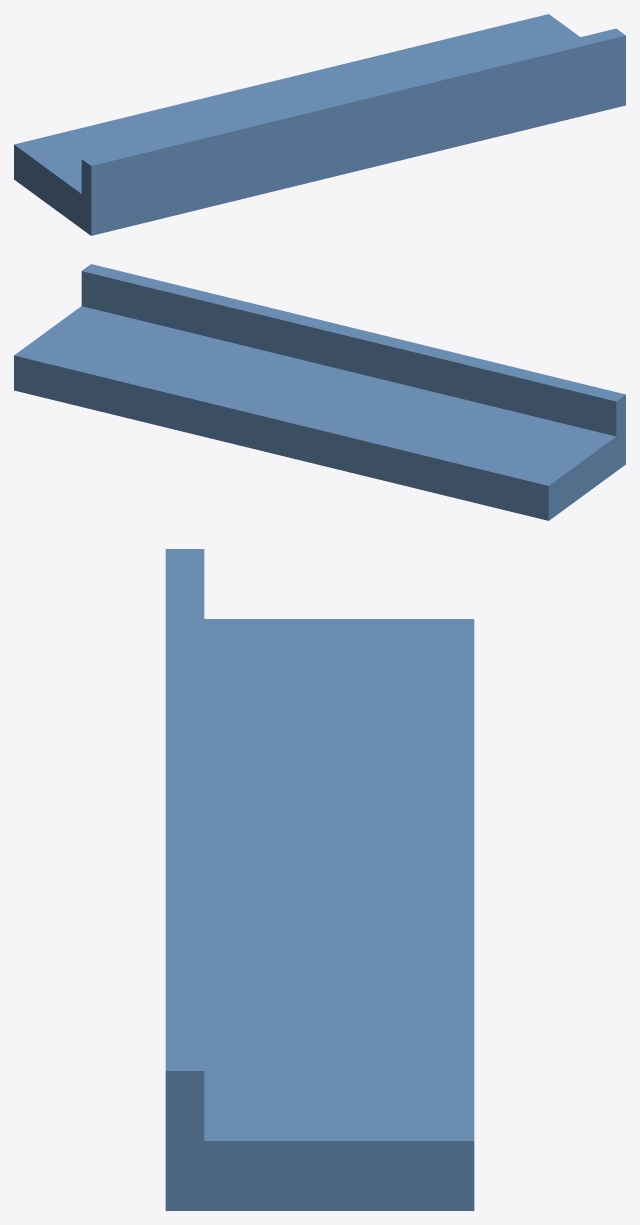
Rendered from kit_shop_awning.glb.
3 renders of one model, top to bottom at view 1: azimuth 30°, elevation 25°; view 2: azimuth 150°, elevation 25°; view 3: azimuth 270°, elevation 25°, orthographic. The views are drawn at different scales.
Visible parts, largest first — view 1: kit_shop_awning-col; view 2: kit_shop_awning-col; view 3: kit_shop_awning-col.
Boxes of the visible parts, box(x1,y1,x2,y2) form: kit_shop_awning-col: box(14, 14, 625, 235); kit_shop_awning-col: box(14, 264, 625, 520); kit_shop_awning-col: box(165, 549, 474, 1210).
Size of the model in its own units: 4 by 0.5 by 1.
